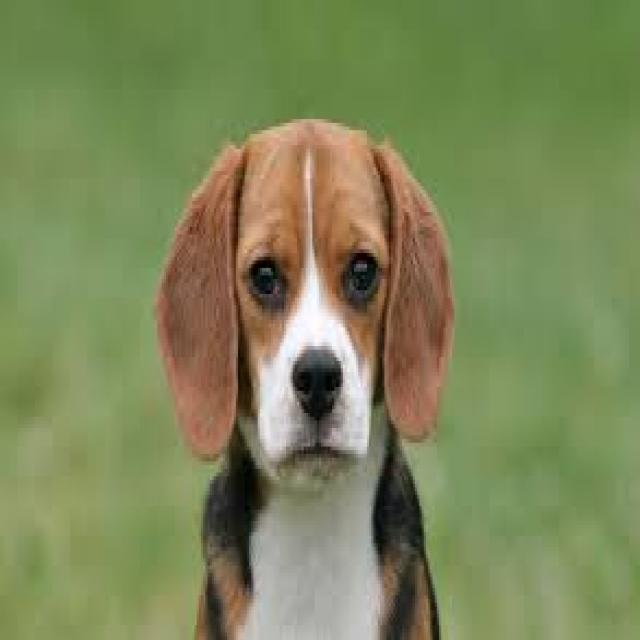Dog: (153, 111, 462, 640)
